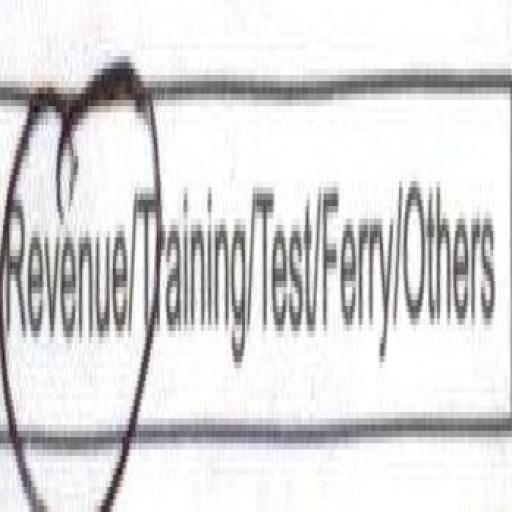check: (0, 0, 136, 499)
